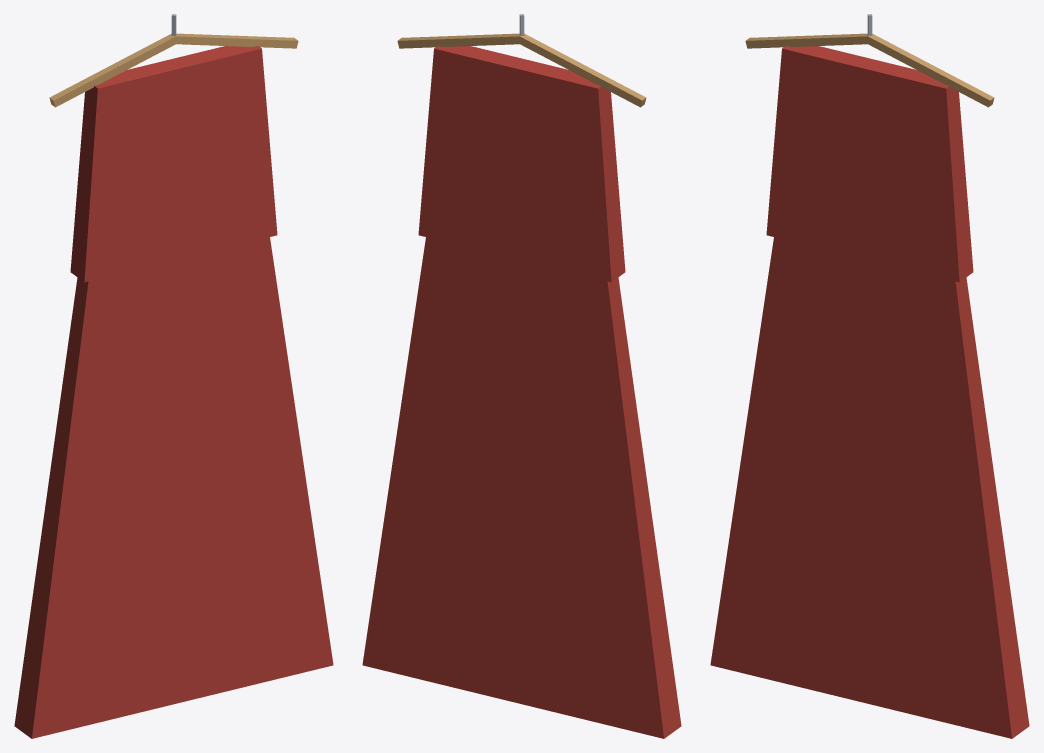
Rendered from FD_Dress_Hanger_01.glb.
3 views of the same model, side by side, from view 1: azimuth 30°, elevation 25°; view 2: azimuth 150°, elevation 25°; view 3: azimuth 330°, elevation 25° (orthographic).
Parts seen in each view (by area): view 1: FD_Dress_Hanger_01; view 2: FD_Dress_Hanger_01; view 3: FD_Dress_Hanger_01.
Part boxes in pixels (x1,y1,x2,y2): FD_Dress_Hanger_01: (14, 14, 333, 738); FD_Dress_Hanger_01: (362, 14, 681, 738); FD_Dress_Hanger_01: (710, 14, 1029, 738).
Bounding box in the file's own units: 0.5 × 1.08 × 0.05.
1 material, 1 textured.
